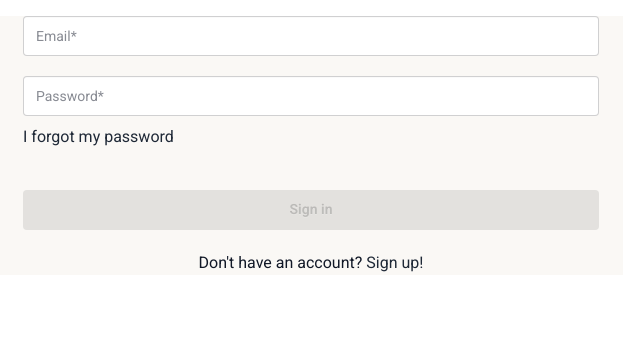
Scenario: SignInForm › Test 3: Check a success message is shown after a successful login.
Type "alice@example.com" into the field with placeholder "Email*" at (311, 36), box [23, 16, 599, 56]
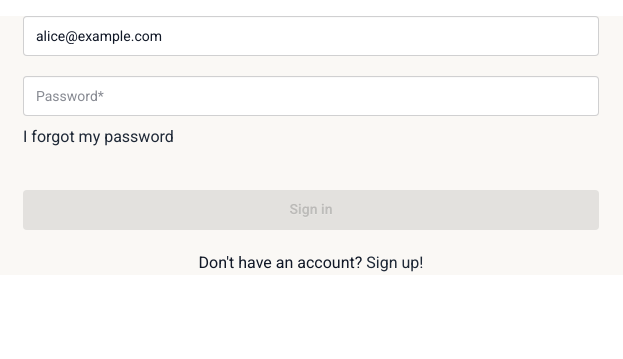
Type "password123" into the password field with placeholder "Password*" at (311, 96), box [23, 76, 599, 116]
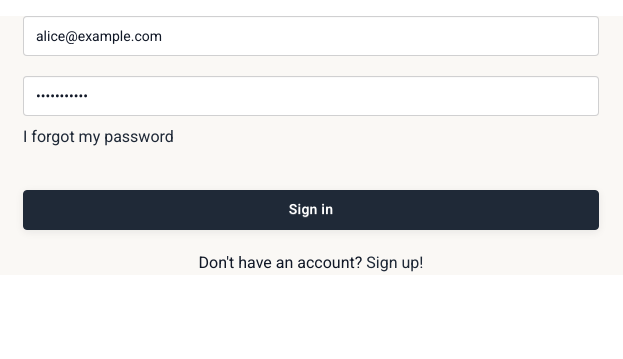
Click the button "Sign in" at (311, 210), box [23, 190, 599, 230]
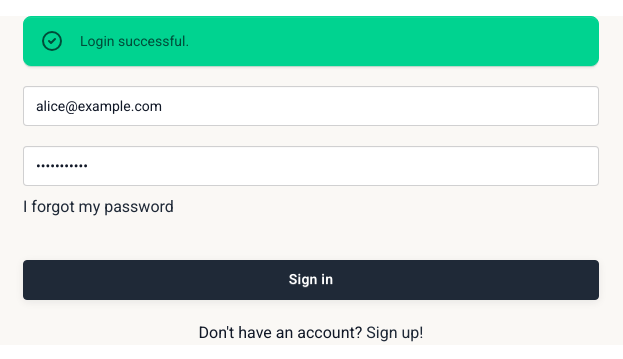
expect the text "Login successful." is shown: met, box [80, 31, 189, 51]
